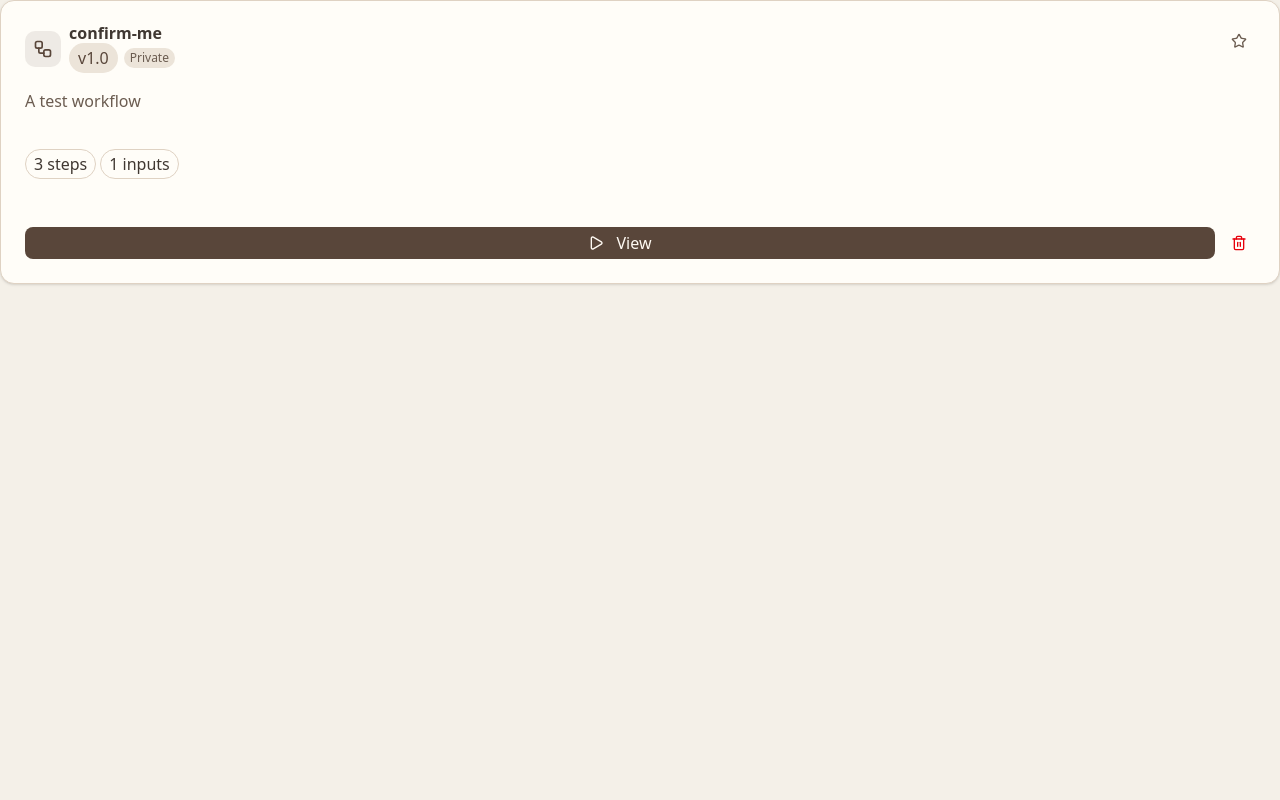
Scenario: WorkflowCard › delete dialog shows confirmation message with workflow name
Click the button with test id "workflow-delete-button".
click(1239, 243)  # box [1223,227,1255,259]
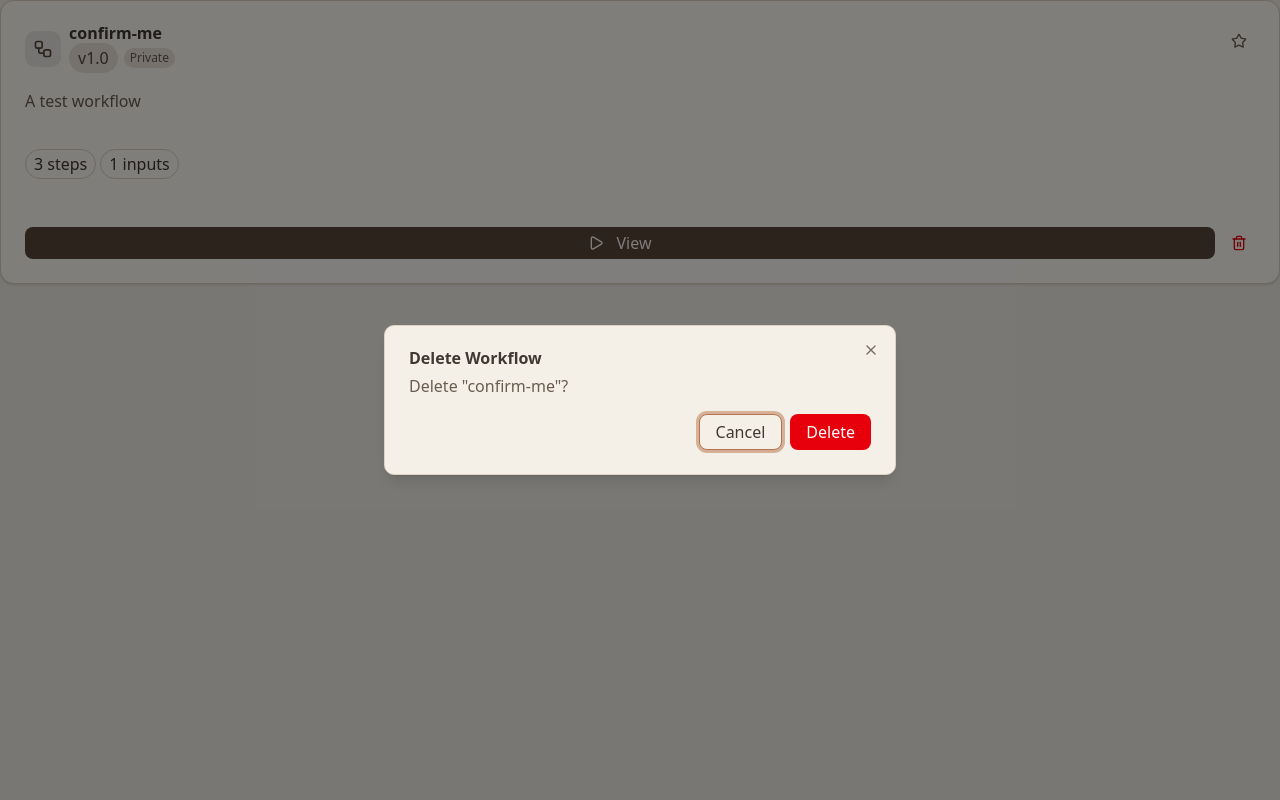
Expected: the dialog is shown, [384,325,896,475]
Expected: the text "Delete \"confirm-me\"?" is shown, [409,375,568,397]
